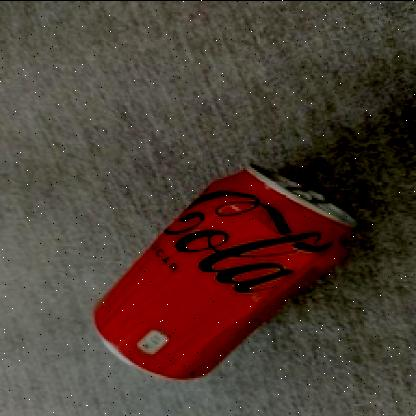Can: (69, 125, 371, 412)
